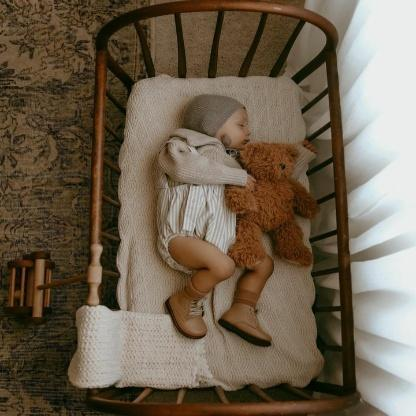baby: (153, 93, 278, 348)
